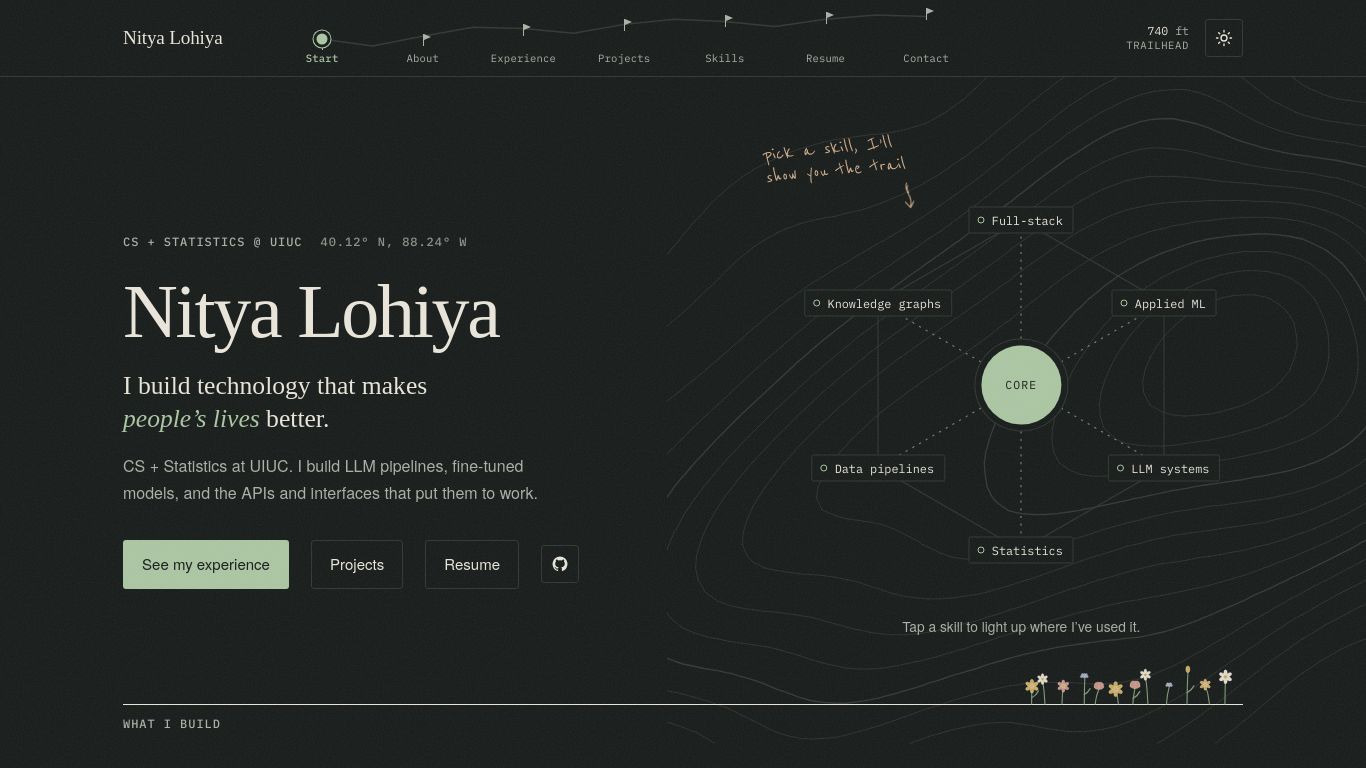
Scenario: "pick a skill" hint › shows on a first visit and goes away once the visitor uses the lens
Check: the text "pick a skill, I’ll show you the trail" is shown, box left=762, top=128, right=916, bottom=190
Click the button "Statistics". click: coordinates (1021, 550)
box: left=969, top=536, right=1074, bottom=564
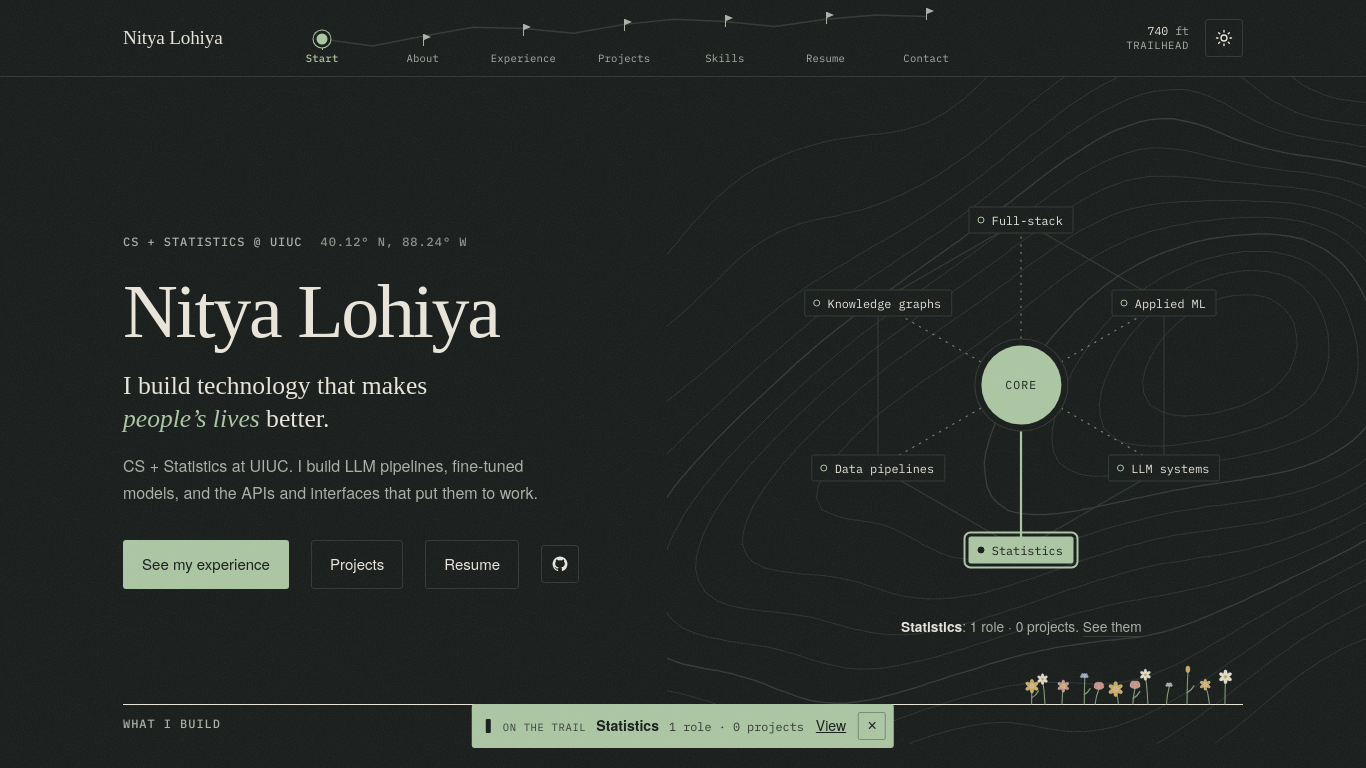
Check: the text "I’ll show you the trail" is gone
